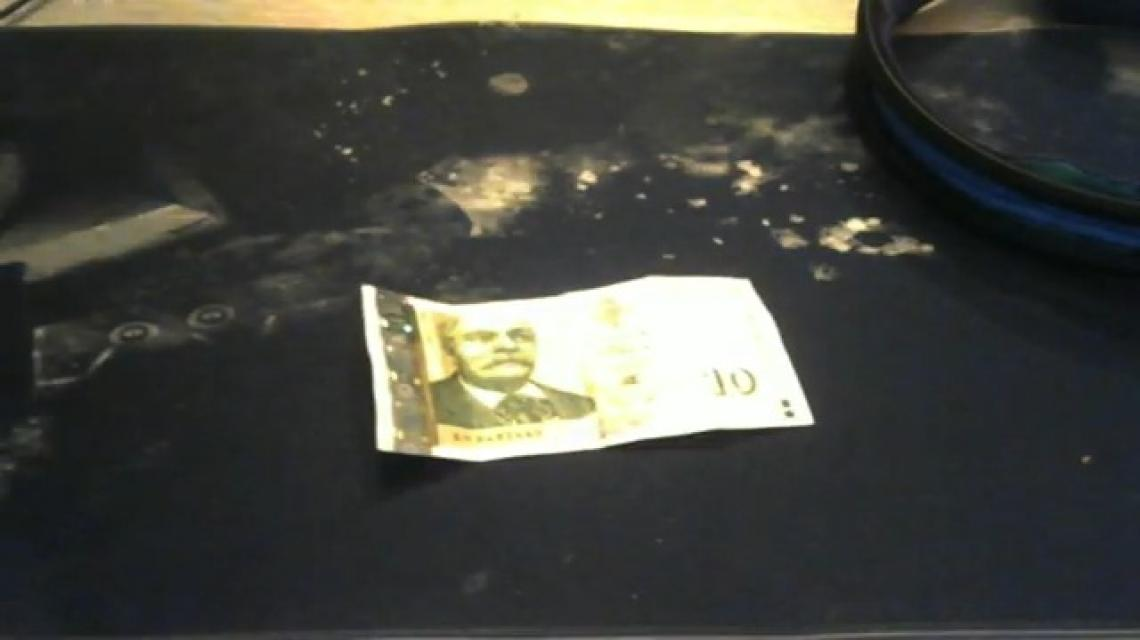10leva: (358, 276, 818, 466)
